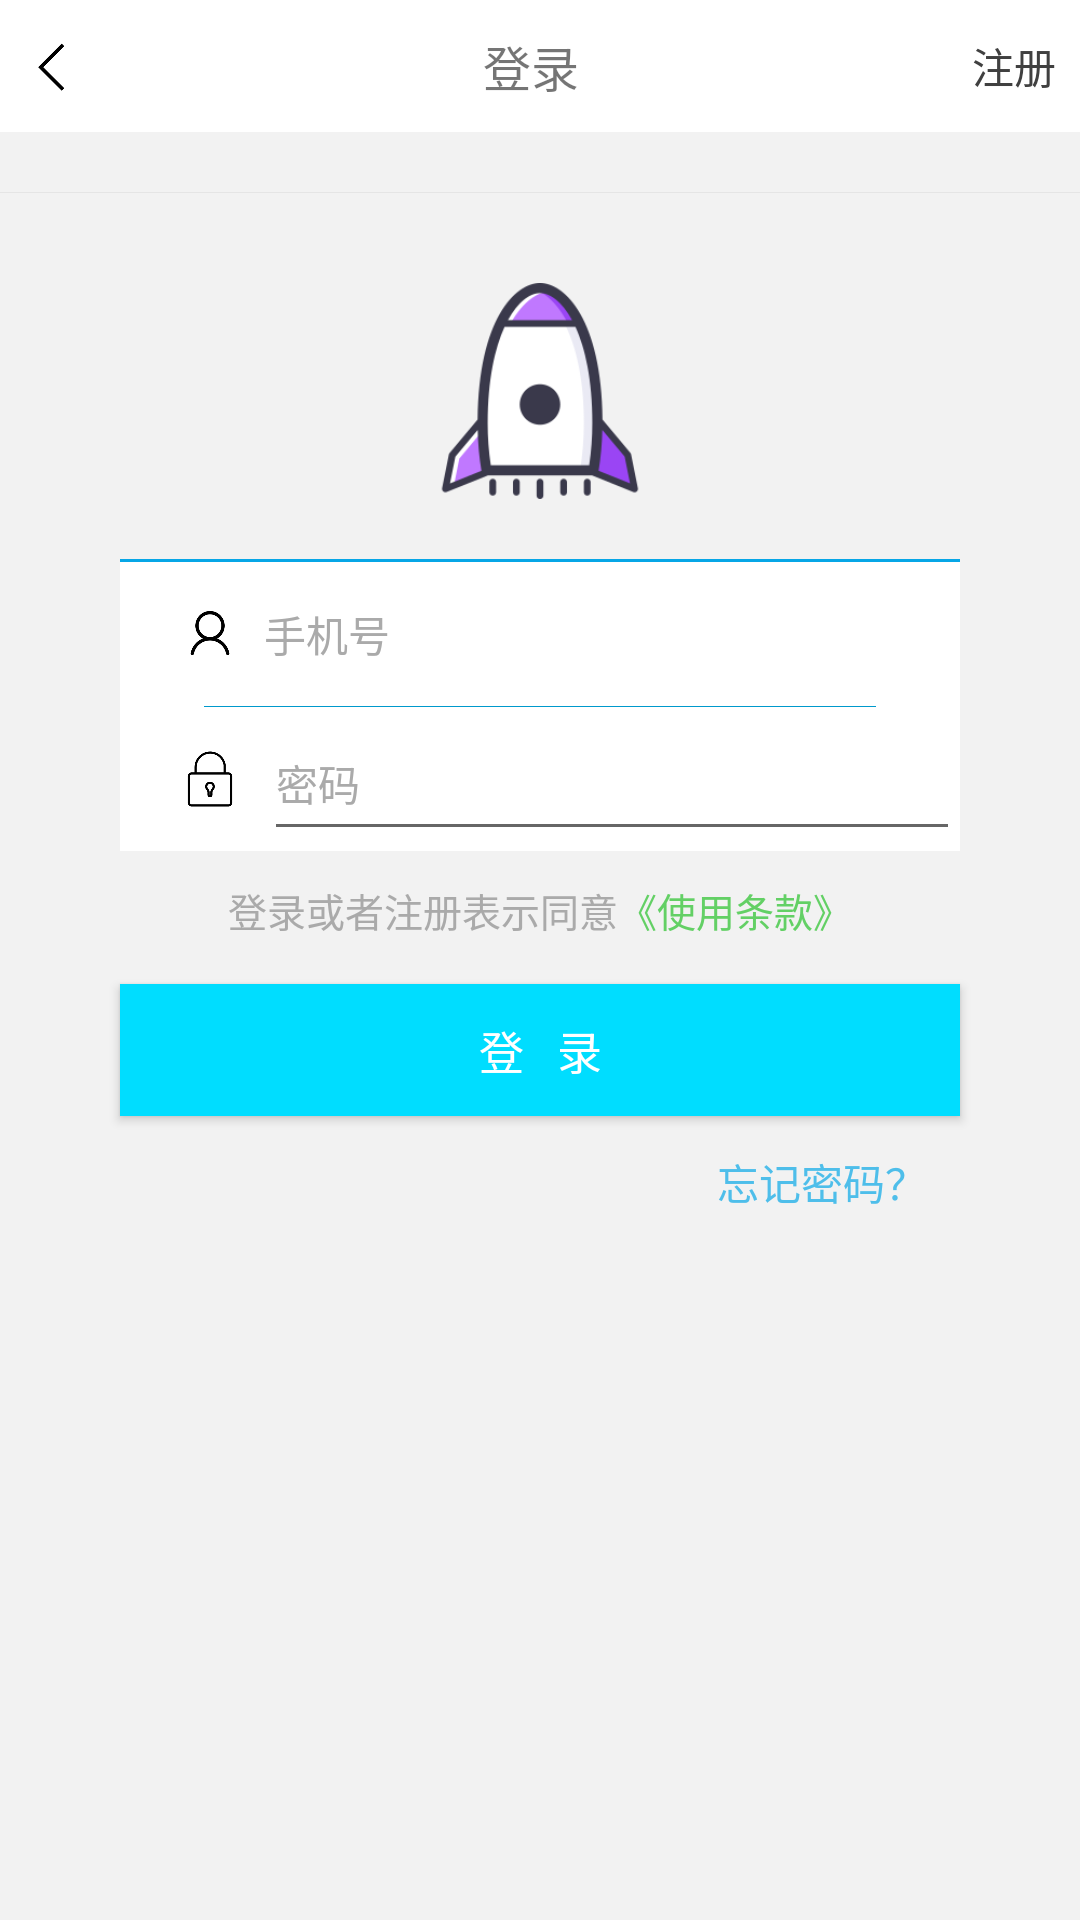

Point at icon controls on the screen. Image size 1080w x 1920h, points as [x,y].
fanhui: [51,67]
huojian: [540,391]
mima: [210,779]
